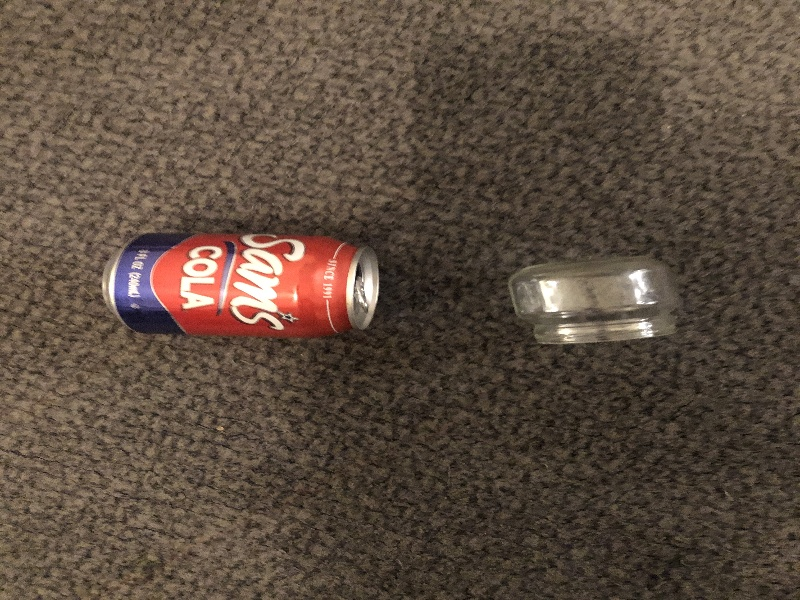glass: (503, 249, 685, 350)
metal: (92, 213, 393, 348)
